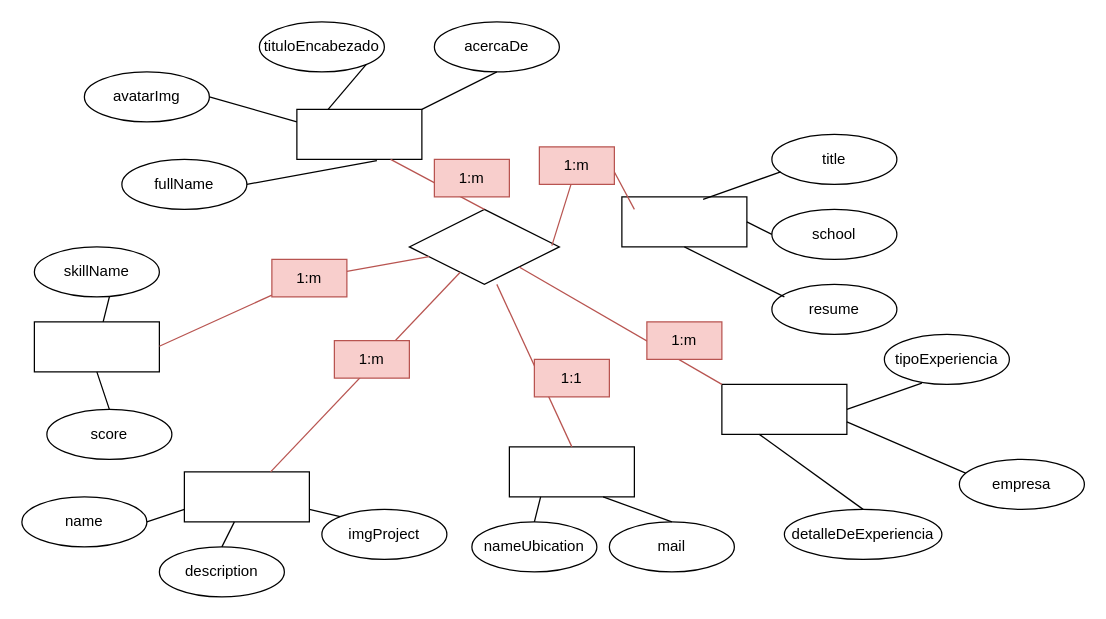
The diagram is 1106 pixels wide and 619 high, and some of its shapes have lost their labels. The centre of each missing label's shape, as x and y in pixels:
contacto: (x=571, y=471)
education: (x=684, y=221)
experiencia: (x=784, y=408)
persona: (x=359, y=133)
projects: (x=246, y=496)
skills: (x=96, y=346)
tiene: (x=483, y=246)
